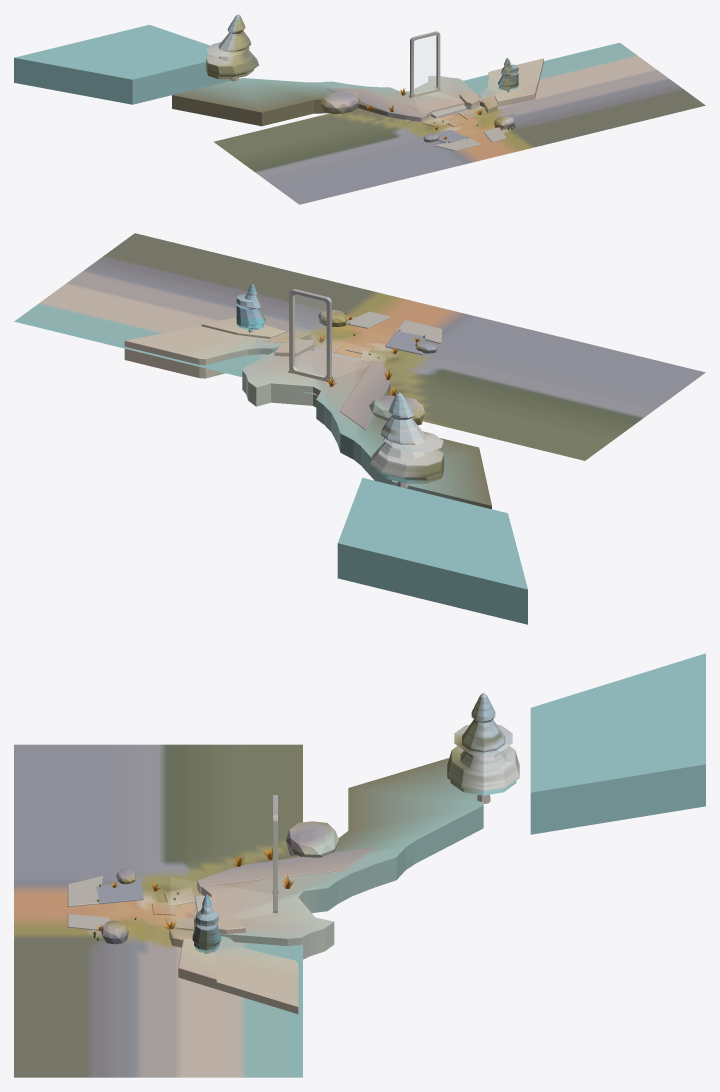
The model's file is hero.glb.
3 renders of one model, top to bottom at view 1: azimuth 30°, elevation 25°; view 2: azimuth 150°, elevation 25°; view 3: azimuth 270°, elevation 25°, orthographic. The views are drawn at different scales.
Parts seen in each view (by area): view 1: Ground, Mound_FarL, Terrace, Pine_L, Gate_Glass, Slab_L, Rock_L, Gate_Frame, Slab_R3, Pine_R, Flag_04; view 2: Ground, Mound_FarL, Terrace, Pine_L, Slab_L, Gate_Frame, Pine_R, Slab_R3, Rock_L; view 3: Ground, Mound_FarL, Terrace, Pine_L, Slab_L, Rock_L, Slab_R3, Pine_R, Flag_03, Flag_04.
Part boxes in pixels (x1,y1,x2,y2): Ground: (213, 42, 705, 204); Mound_FarL: (14, 24, 230, 104); Terrace: (172, 58, 543, 126); Pine_L: (206, 14, 258, 79); Gate_Glass: (414, 36, 436, 92); Slab_L: (327, 88, 426, 121); Rock_L: (320, 91, 360, 113); Gate_Frame: (410, 31, 440, 97); Slab_R3: (494, 82, 537, 106); Pine_R: (498, 58, 518, 90); Flag_04: (434, 138, 481, 150); Ground: (14, 233, 705, 460); Mound_FarL: (337, 478, 527, 624); Terrace: (124, 326, 491, 509); Pine_L: (369, 392, 444, 483); Slab_L: (339, 360, 390, 430); Gate_Frame: (289, 289, 331, 381); Pine_R: (236, 284, 265, 329); Slab_R3: (201, 317, 285, 338); Rock_L: (369, 395, 424, 425); Ground: (14, 744, 302, 1077); Mound_FarL: (530, 653, 705, 834); Terrace: (194, 758, 483, 1013); Pine_L: (447, 693, 519, 795); Slab_L: (197, 847, 374, 893); Rock_L: (286, 821, 338, 857); Slab_R3: (178, 938, 216, 989); Pine_R: (192, 894, 221, 953); Flag_03: (96, 877, 143, 904); Flag_04: (67, 876, 103, 906).
Size of the model in its own units: 21.52 by 3.33 by 15.8.
